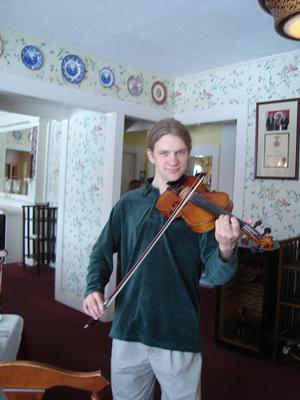person: (83, 119, 254, 400)
